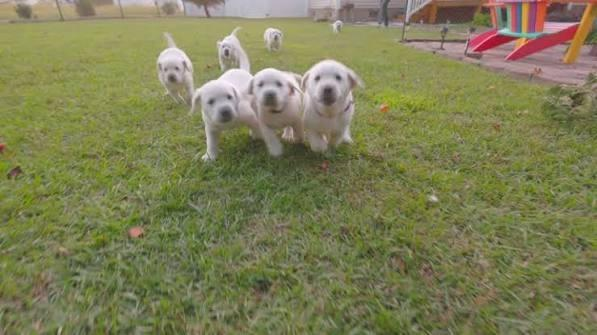puppy-dog: (294, 58, 368, 153), (193, 69, 263, 161), (248, 67, 307, 158), (156, 33, 196, 105), (215, 27, 253, 81), (263, 27, 284, 53), (331, 19, 344, 35)
